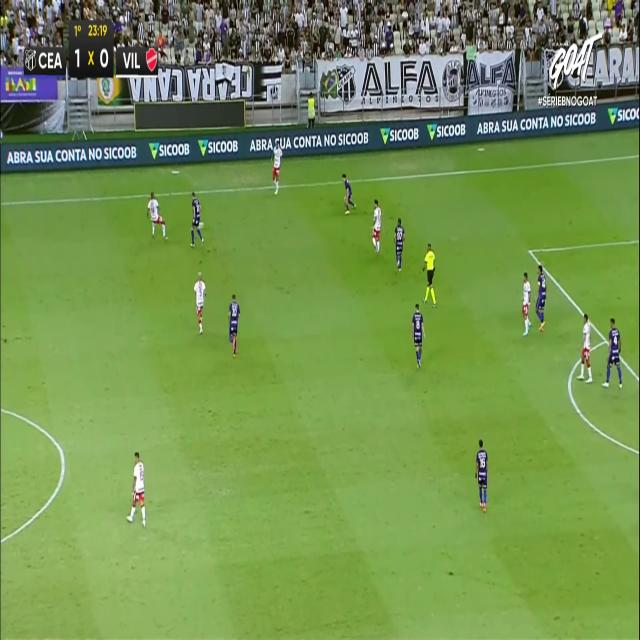ball: (198, 215, 205, 232)
player: (126, 450, 146, 525), (602, 318, 622, 388), (146, 192, 167, 239), (578, 312, 592, 381), (475, 438, 488, 510), (411, 303, 424, 368), (228, 293, 240, 356), (535, 263, 546, 330), (194, 271, 206, 332), (190, 191, 203, 246), (271, 137, 282, 194), (522, 271, 531, 335), (342, 173, 356, 214), (394, 218, 405, 270), (372, 198, 380, 253)
referee: (422, 242, 437, 306)
